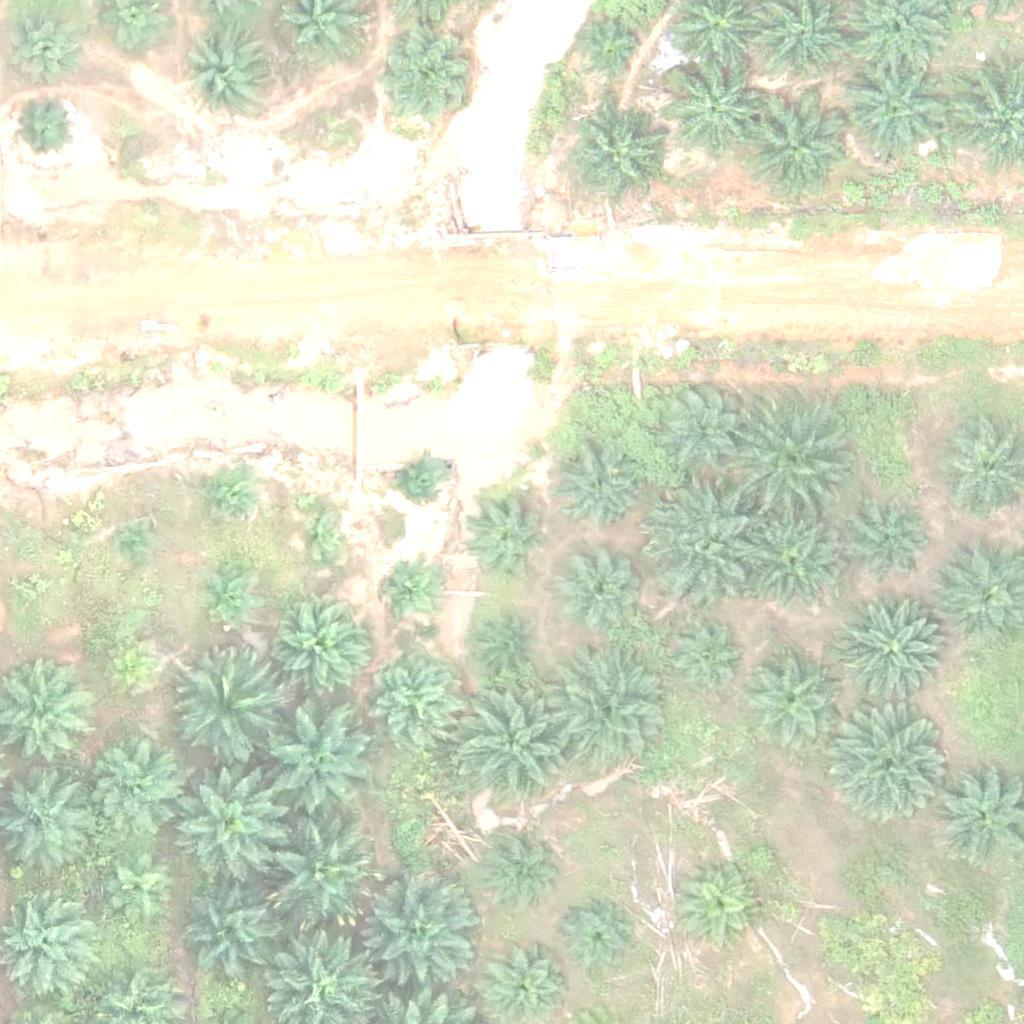Kelapa_Sawit: (828, 710, 941, 824), (554, 659, 667, 773), (459, 682, 572, 795), (258, 706, 371, 819), (167, 646, 280, 759), (172, 778, 285, 891), (838, 54, 951, 167), (740, 93, 853, 206), (360, 872, 472, 986), (839, 596, 951, 709), (736, 409, 848, 522), (646, 488, 758, 601), (269, 823, 381, 936), (742, 507, 842, 608), (648, 374, 748, 475), (178, 885, 278, 986), (568, 105, 668, 206), (376, 33, 476, 134), (743, 649, 843, 749), (274, 598, 374, 698), (89, 739, 189, 839), (661, 59, 761, 159), (554, 445, 641, 534), (848, 498, 935, 586), (661, 615, 748, 703), (554, 544, 641, 632), (370, 648, 457, 736), (464, 492, 551, 580), (674, 865, 761, 953), (184, 27, 271, 115), (558, 903, 633, 979), (482, 829, 557, 904), (101, 846, 176, 921), (574, 17, 649, 92), (14, 97, 76, 160), (386, 561, 436, 612), (393, 451, 443, 501), (484, 620, 534, 670), (296, 514, 346, 564), (204, 468, 254, 518), (199, 571, 249, 621), (113, 529, 151, 567), (103, 648, 140, 685), (16, 576, 41, 602)
